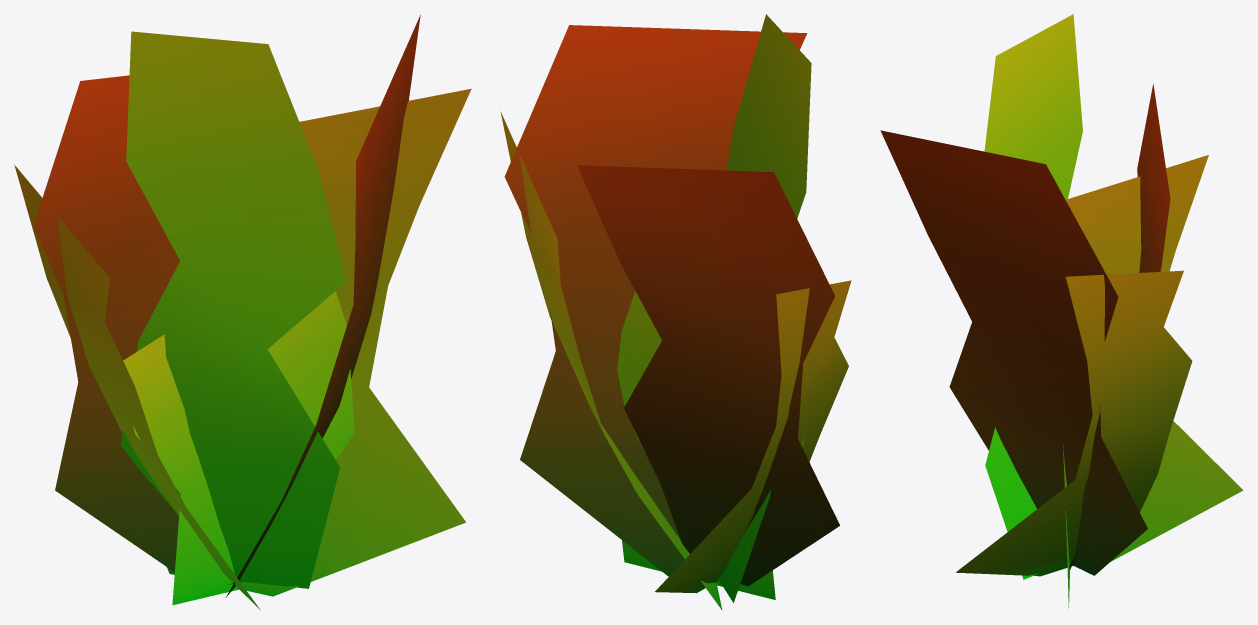
File: Var8Hi43.fbx
3 views of the same model, side by side, from view 1: azimuth 30°, elevation 25°; view 2: azimuth 150°, elevation 25°; view 3: azimuth 270°, elevation 25° (orthographic). The views are drawn at different scales.
Parts seen in each view (by area): view 1: bend1; view 2: bend1; view 3: bend1.
Part boxes in pixels (<box>): bend1: <box>14,15,471,610</box>; bend1: <box>500,14,851,610</box>; bend1: <box>880,14,1243,608</box>.
Bounding box in the file's own units: 1.26 × 1.77 × 1.14.
